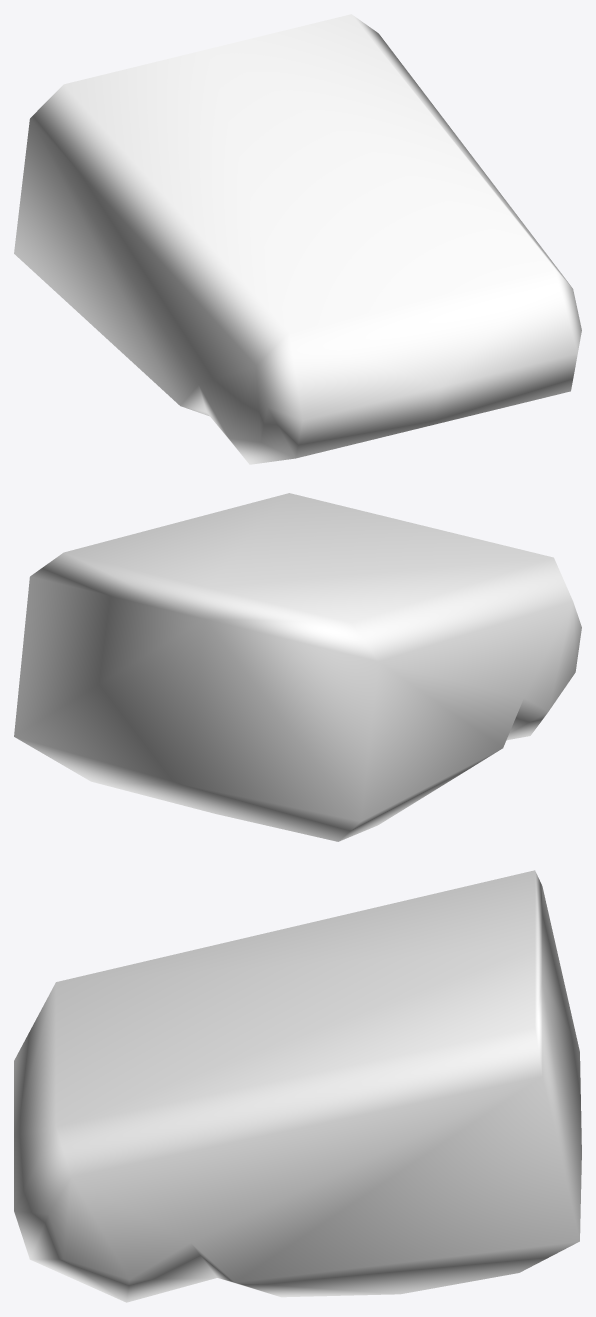
File: thumbj3_right.obj
The picture shows the model from 3 angles, top to bottom: view 1: azimuth 30°, elevation 25°; view 2: azimuth 150°, elevation 25°; view 3: azimuth 270°, elevation 25°; orthographic projection. The views are drawn at different scales.
Size of the model in its own units: 0.021 by 0.0148 by 0.0265.
Materials: 1 (1 with a texture image).
